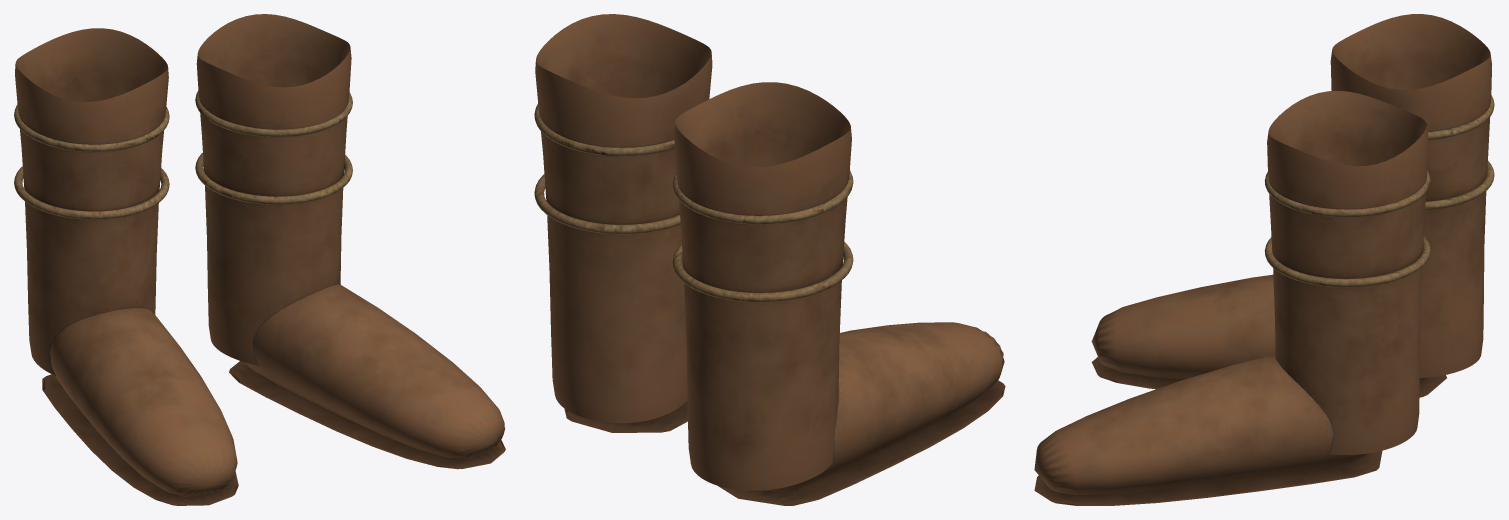
File: boots.glb
3 renders of one model, left to right at view 1: azimuth 30°, elevation 25°; view 2: azimuth 150°, elevation 25°; view 3: azimuth 270°, elevation 25°, orthographic. The views are drawn at different scales.
Visible parts, largest first — view 1: boots; view 2: boots; view 3: boots.
Part boxes in pixels (bbox=[...]): boots: bbox=[14, 14, 505, 505]; boots: bbox=[534, 14, 1005, 505]; boots: bbox=[1034, 14, 1494, 505].
Bounding box in the file's own units: 0.2522 × 0.2391 × 0.2976.
1 material, 1 textured.
